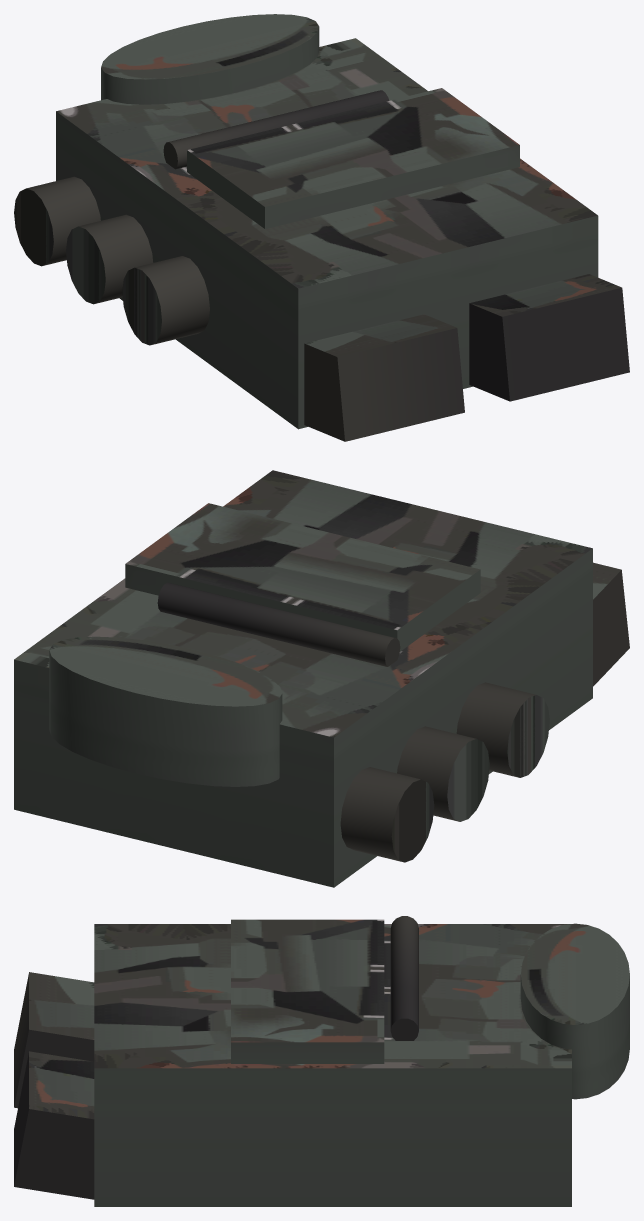
Rendered from Building_AncientWarwalkerTorso.obj.
3 views of the same model, one above another, from view 1: azimuth 30°, elevation 25°; view 2: azimuth 150°, elevation 25°; view 3: azimuth 270°, elevation 25° (orthographic). The views are drawn at different scales.
Visible parts, largest first — view 1: Body; view 2: Body; view 3: Body.
Boxes of the visible parts, x1=… form: Body: x1=14, y1=14, x2=629, y2=441; Body: x1=14, y1=470, x2=629, y2=887; Body: x1=14, y1=916, x2=629, y2=1206.
Size of the model in its own units: 3.62 by 1.65 by 5.64.
Materials: 1 (1 with a texture image).
